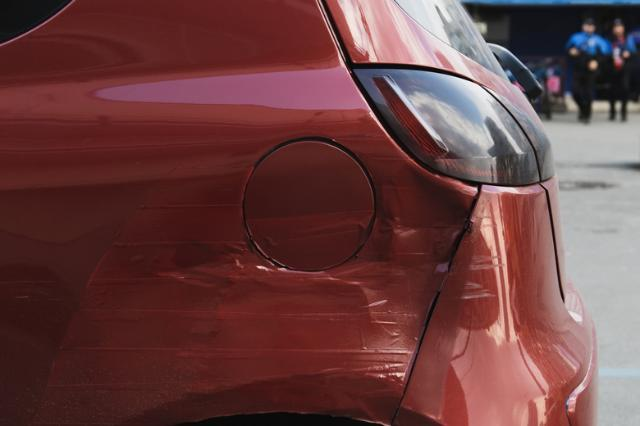Fender: (55, 129, 458, 420)
